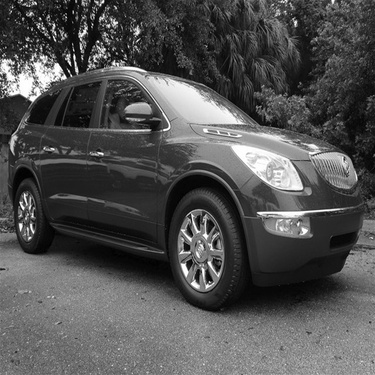car: (1, 64, 368, 316)
